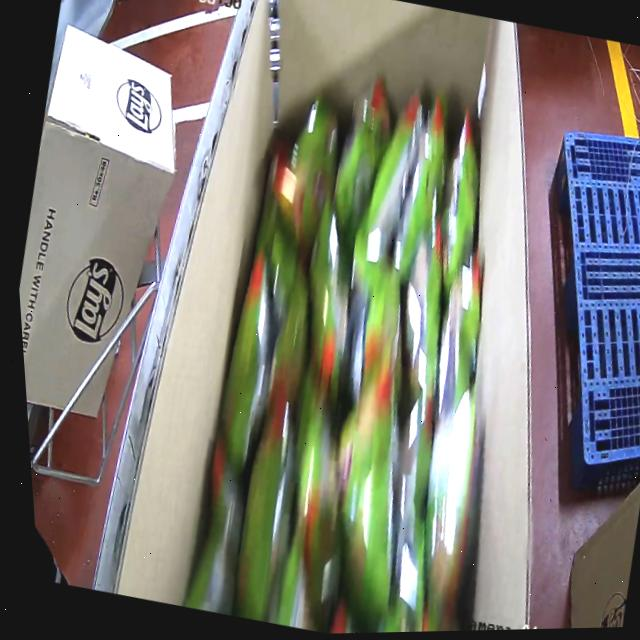YOGURT_HERB: (147, 44, 574, 637)
